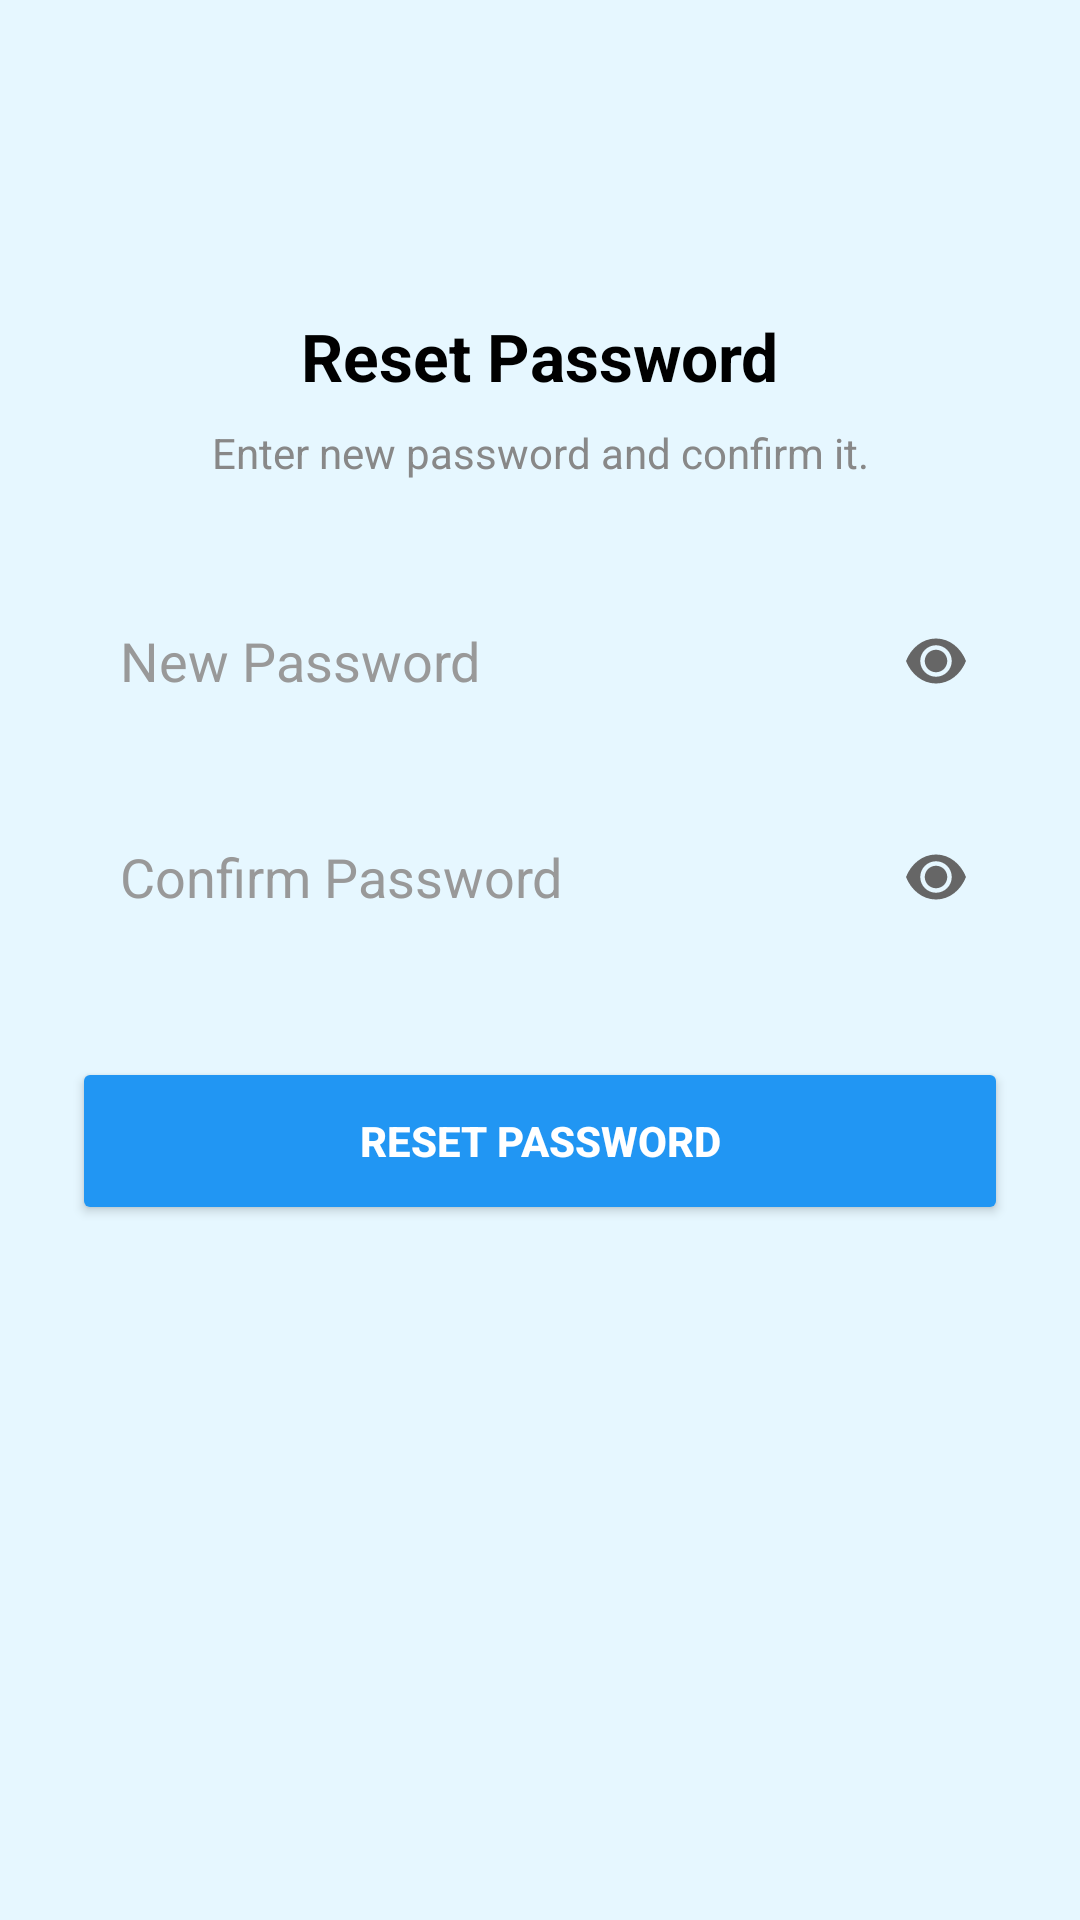

Where icons sit on this 1080*1920 app screen, as detection(x1, y1, x2, y2):
eye: detection(906, 638, 966, 684), detection(906, 854, 966, 900)
